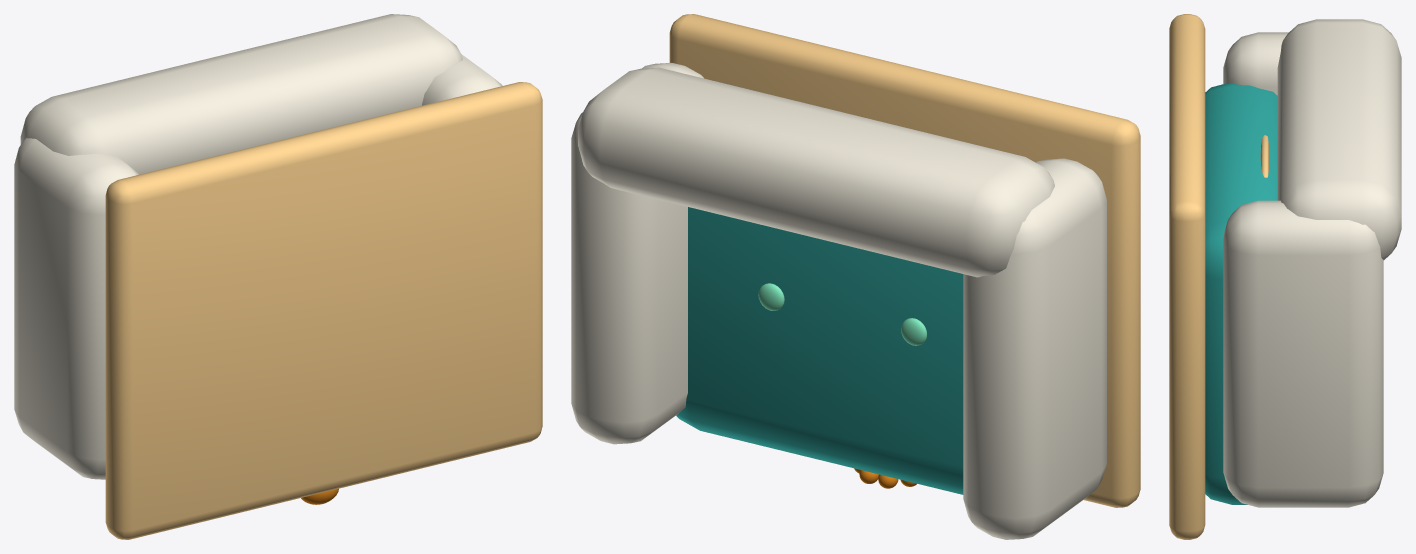
The model's file is RunnerCatBed.fbx.
3 views of the same model, side by side, from view 1: azimuth 30°, elevation 25°; view 2: azimuth 150°, elevation 25°; view 3: azimuth 270°, elevation 25° (orthographic). The views are drawn at different scales.
Parts seen in each view (by area): view 1: RunnerCatBed; view 2: RunnerCatBed; view 3: RunnerCatBed.
Part boxes in pixels (x1,y1,x2,y2): RunnerCatBed: (14, 14, 542, 539); RunnerCatBed: (571, 14, 1140, 539); RunnerCatBed: (1169, 14, 1401, 539).
Bounding box in the file's own units: 0.93 × 0.7717 × 0.45.
